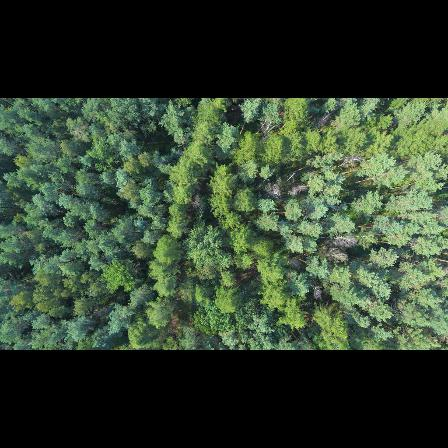Dead: (329, 230, 360, 247), (322, 248, 350, 264), (187, 192, 206, 213), (263, 180, 283, 199), (337, 154, 361, 167), (309, 284, 325, 301), (319, 111, 332, 130)
